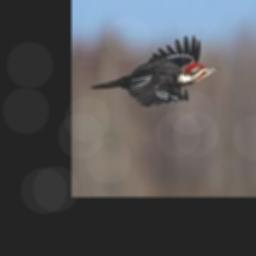Woodpecker: (90, 34, 221, 107)
